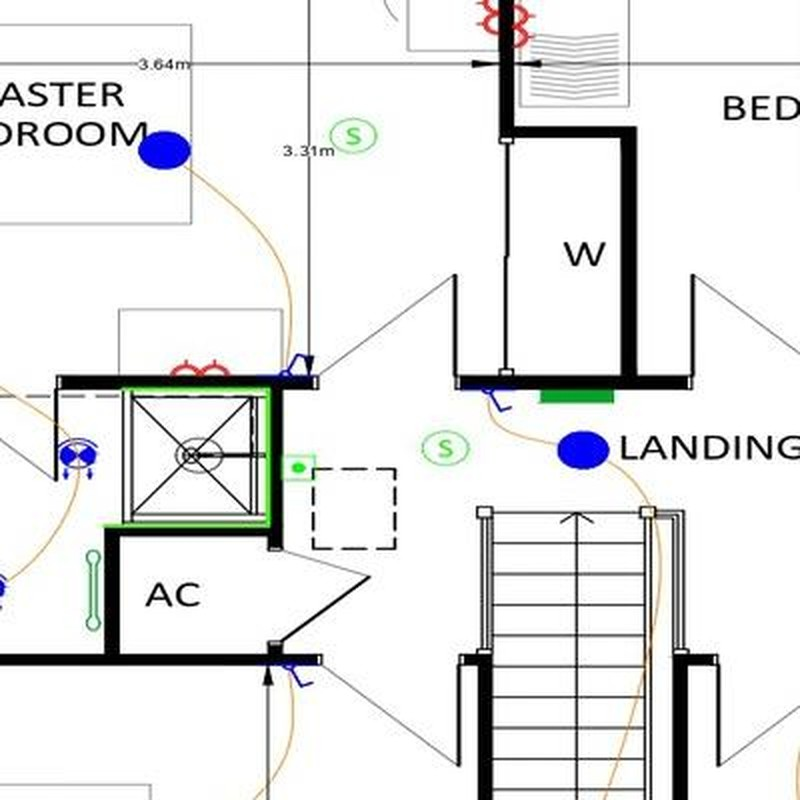Double Socket: (514, 3, 535, 49), (172, 359, 229, 375), (476, 1, 496, 35)
Full Height Tiling: (100, 388, 269, 528)
Light Switch: (280, 666, 315, 689), (479, 389, 511, 414), (282, 353, 307, 376)
Low Energy Downlighter: (58, 438, 98, 482)
Low Energy Pendant Light: (138, 130, 191, 170), (557, 430, 609, 469)
Mains Wired Smoke Detector: (330, 118, 376, 154), (420, 431, 468, 464)
Programmable Room Thermostat: (282, 456, 314, 481)
Radiator: (539, 391, 613, 405)
